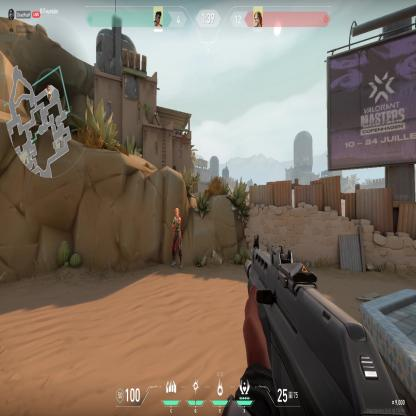enemy: (169, 207, 184, 268)
